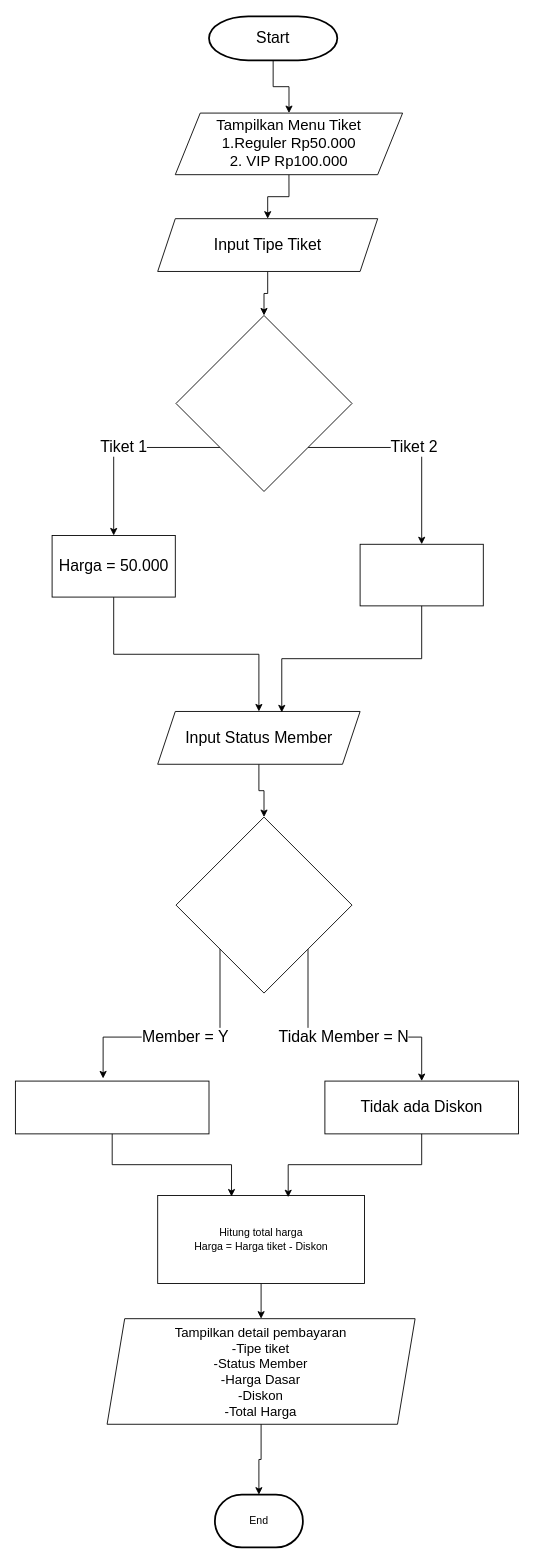
The diagram is 534 pixels wide and 1563 high, and some of its shapes have lost their labels. The centre of each missing label's shape, as x and y in pixels:
"Cek Status Member" goes at (263,904).
"Cek Tipe Tiket" goes at (263,403).
"Harga = 100.000" goes at (421,574).
"Hitung Diskon 20% dari harga tiket" goes at (112,1107).
